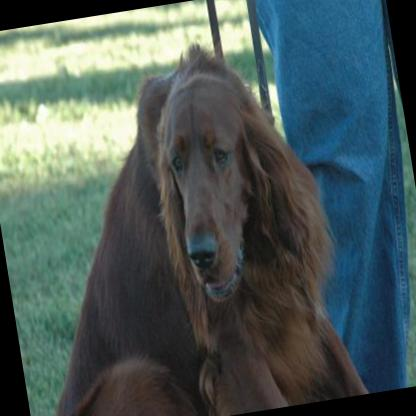Irish_setter: (0, 21, 366, 416)
